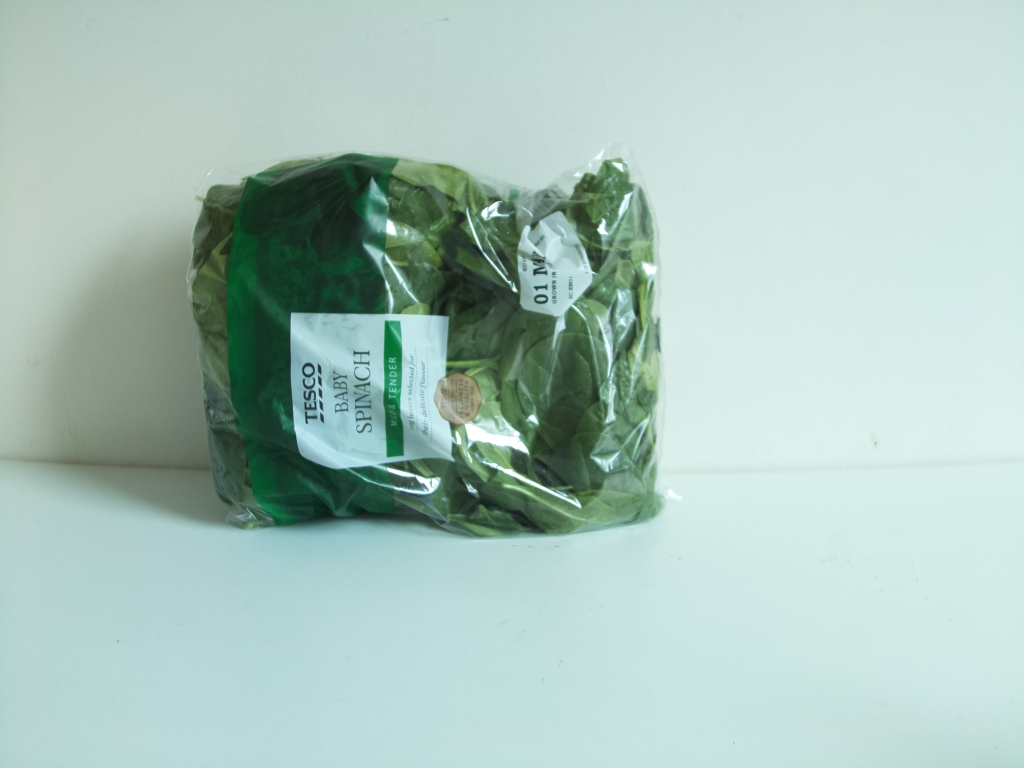salad: (191, 152, 668, 533)
